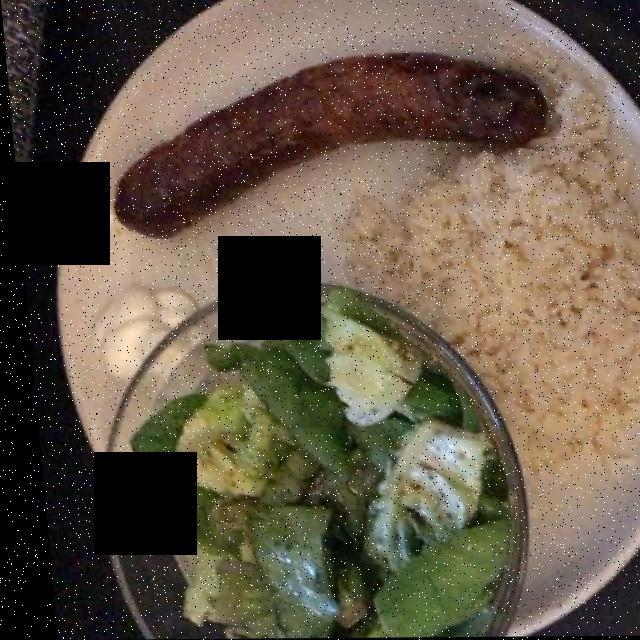mayonnaise: (85, 277, 196, 383)
rice: (348, 133, 639, 471)
salad: (127, 308, 494, 631)
sausage: (116, 57, 542, 239)
